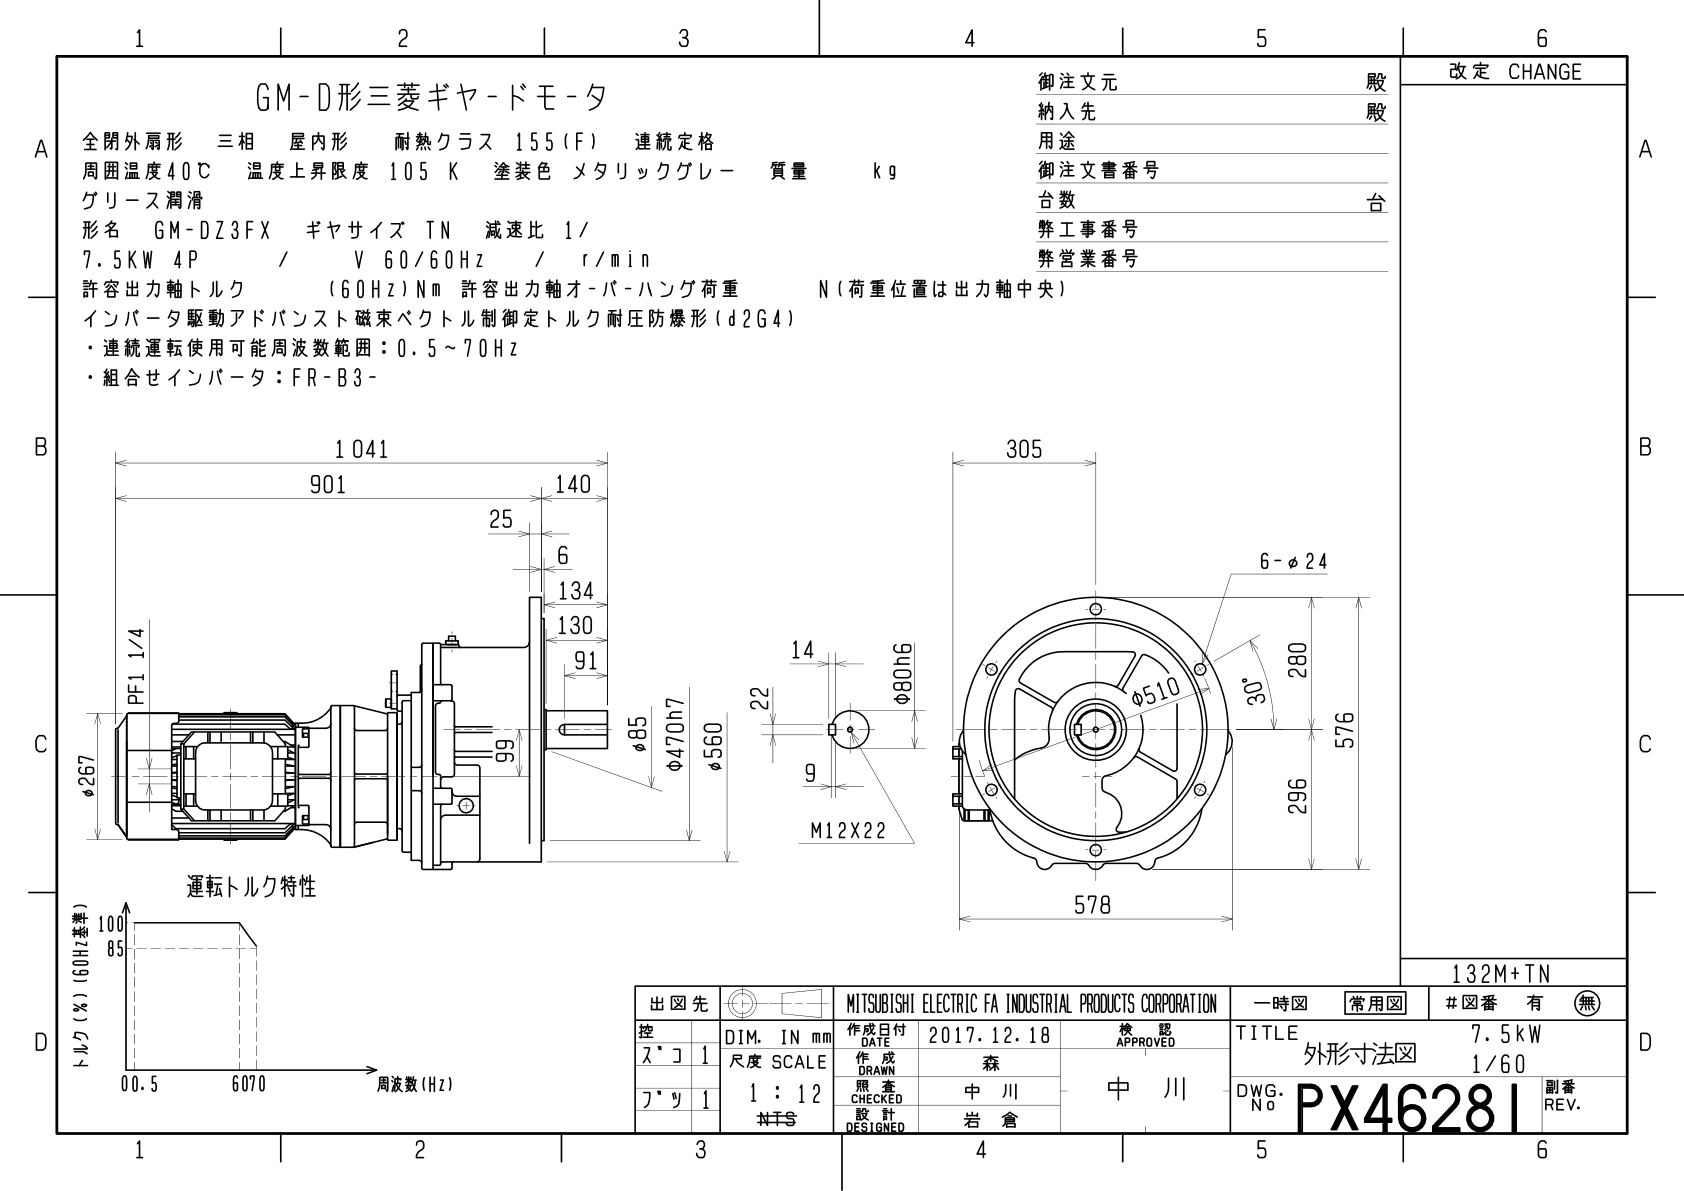GM_D_制御屋内_三相_フランジ: (63, 409, 1385, 969)
